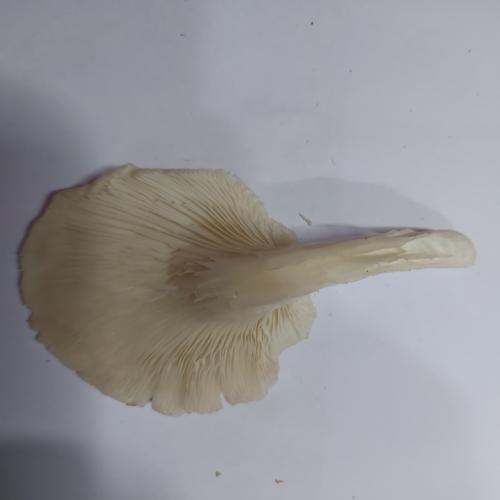Oyster Mushroom: (16, 162, 477, 417)
